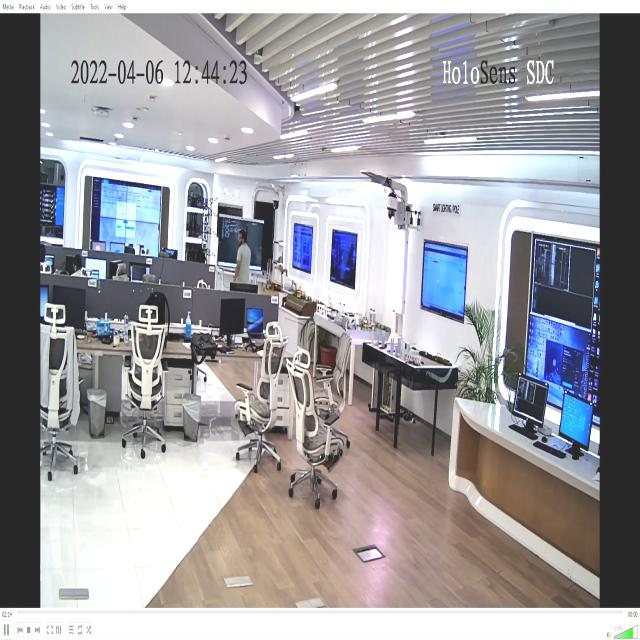long weapon: (244, 218, 250, 245)
